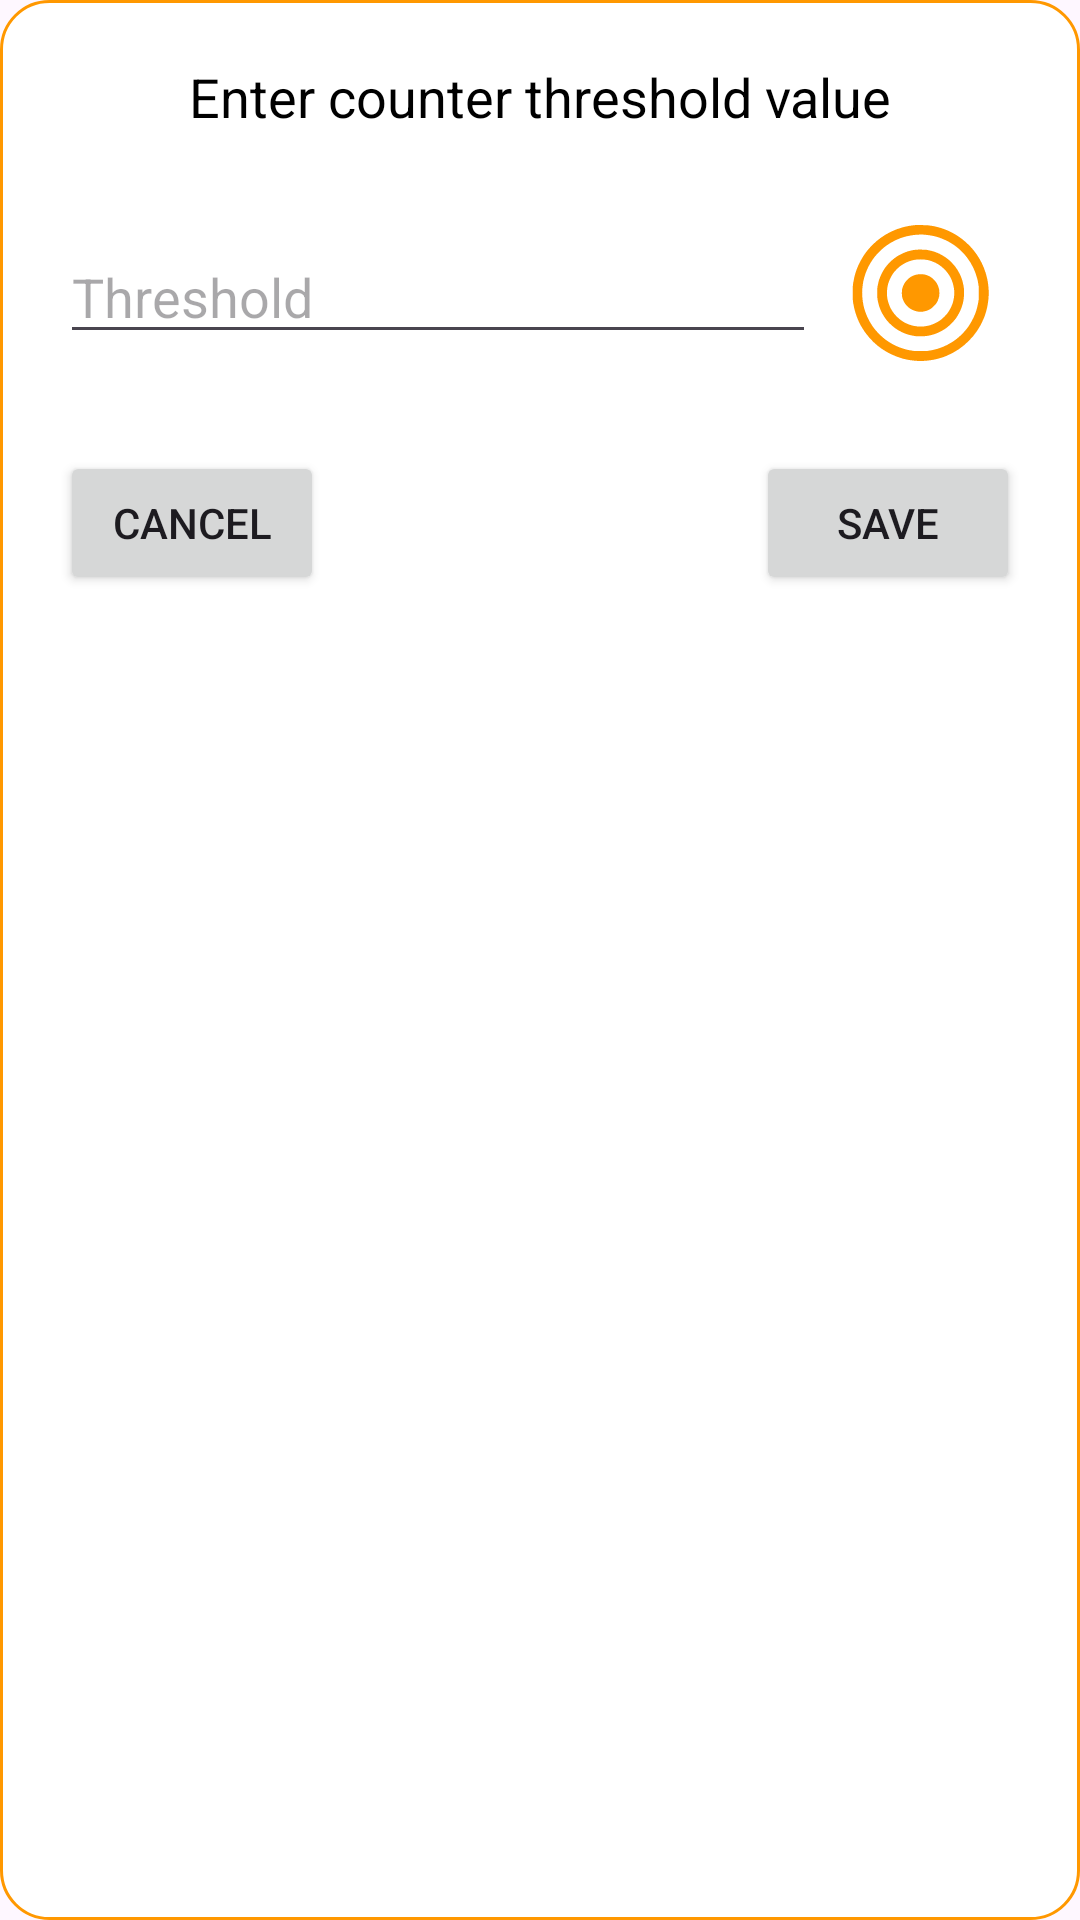

Icon bounding boxes for this 1080w x 1920h phone screenshot, format (x1, y1, x2, y2):
Touch: (852, 225, 989, 361)
